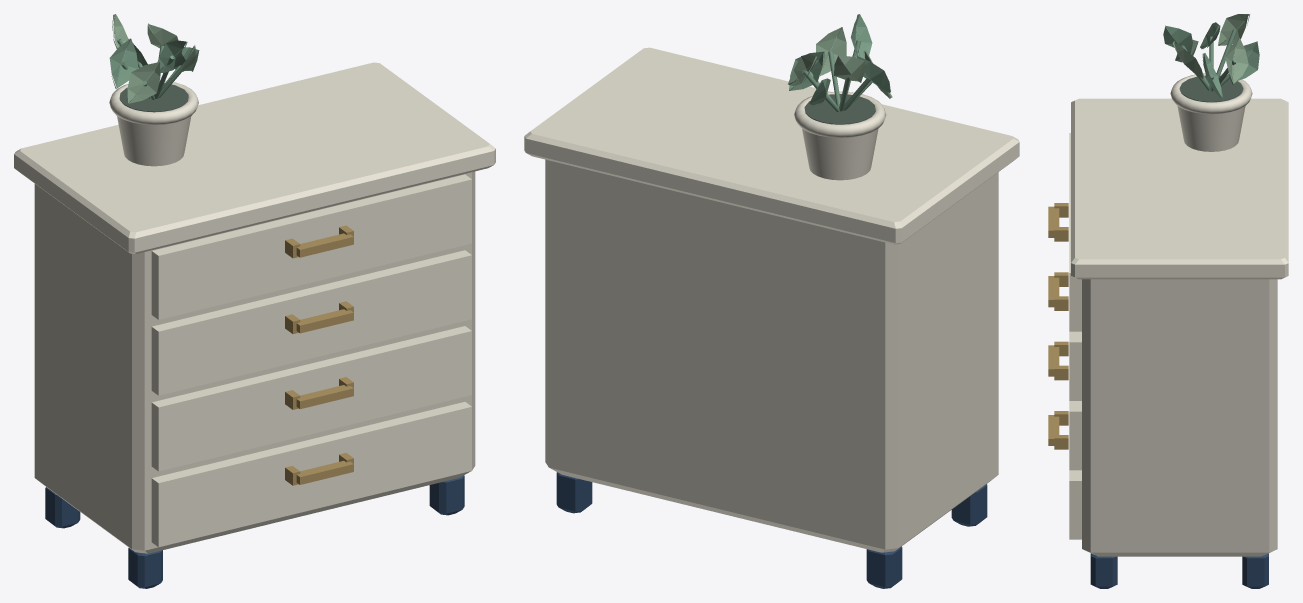
File: v18_interior_ivory_drawers.glb
3 views of the same model, side by side, from view 1: azimuth 30°, elevation 25°; view 2: azimuth 150°, elevation 25°; view 3: azimuth 270°, elevation 25° (orthographic). The views are drawn at different scales.
Visible parts, largest first — view 1: _MeshInstance3D_4831, _MeshInstance3D_4830, _MeshInstance3D_4836, _MeshInstance3D_4840, _MeshInstance3D_4832, _MeshInstance3D_4844, _MeshInstance3D_4848, _MeshInstance3D_4849, _MeshInstance3D_4827, _MeshInstance3D_4829, _MeshInstance3D_4850, _MeshInstance3D_4861 (+6 smaller); view 2: _MeshInstance3D_4830, _MeshInstance3D_4831, _MeshInstance3D_4848, _MeshInstance3D_4849, _MeshInstance3D_4850, _MeshInstance3D_4826, _MeshInstance3D_4828, _MeshInstance3D_4827, _MeshInstance3D_4855, _MeshInstance3D_4867; view 3: _MeshInstance3D_4830, _MeshInstance3D_4831, _MeshInstance3D_4848, _MeshInstance3D_4849, _MeshInstance3D_4850, _MeshInstance3D_4844, _MeshInstance3D_4832, _MeshInstance3D_4836, _MeshInstance3D_4840, _MeshInstance3D_4829, _MeshInstance3D_4828, _MeshInstance3D_4873 (+5 smaller).
Boxes of the visible parts, x1,y1,x2,y2 form: _MeshInstance3D_4831: (14,62,495,253); _MeshInstance3D_4830: (34,171,475,553); _MeshInstance3D_4836: (151,326,471,471); _MeshInstance3D_4840: (151,250,471,395); _MeshInstance3D_4832: (151,402,471,547); _MeshInstance3D_4844: (151,174,471,319); _MeshInstance3D_4848: (117,116,191,166); _MeshInstance3D_4849: (109,80,198,124); _MeshInstance3D_4827: (128,548,162,588); _MeshInstance3D_4829: (429,475,464,515); _MeshInstance3D_4850: (119,83,188,112); _MeshInstance3D_4861: (127,62,160,103); _MeshInstance3D_4830: (545,159,998,552); _MeshInstance3D_4831: (524,47,1019,244); _MeshInstance3D_4848: (802,129,878,180); _MeshInstance3D_4849: (794,91,886,137); _MeshInstance3D_4850: (804,94,875,124); _MeshInstance3D_4826: (866,546,902,588); _MeshInstance3D_4828: (556,472,592,513); _MeshInstance3D_4827: (951,484,987,526); _MeshInstance3D_4855: (816,27,846,76); _MeshInstance3D_4867: (834,55,864,82); _MeshInstance3D_4830: (1082,279,1277,556); _MeshInstance3D_4831: (1071,98,1288,279); _MeshInstance3D_4848: (1177,106,1245,151); _MeshInstance3D_4849: (1170,73,1252,114); _MeshInstance3D_4850: (1179,75,1243,102); _MeshInstance3D_4844: (1069,133,1081,331); _MeshInstance3D_4832: (1069,470,1081,539); _MeshInstance3D_4836: (1069,401,1081,470); _MeshInstance3D_4840: (1069,331,1081,400); _MeshInstance3D_4829: (1090,553,1117,588); _MeshInstance3D_4828: (1242,553,1268,588); _MeshInstance3D_4873: (1225,37,1248,84).
Bounding box in the file's own units: 1.06 × 1.38 × 0.6563.
